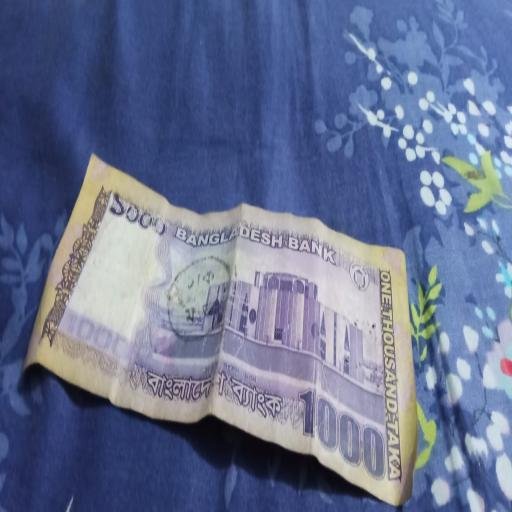1000taka: (25, 153, 411, 490)
